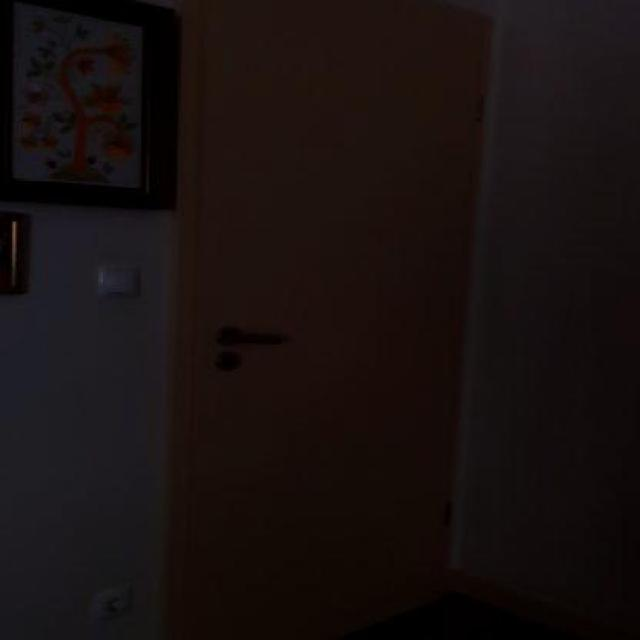door: (169, 0, 492, 638)
